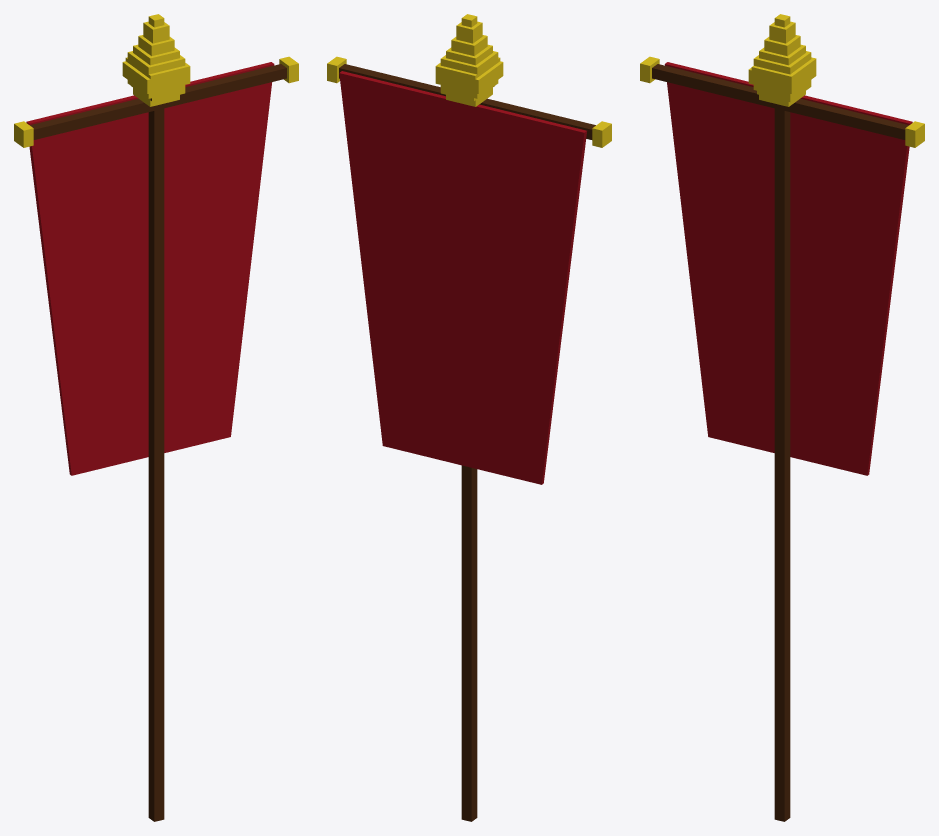
The model's file is Banners.fbx.
3 renders of one model, left to right at view 1: azimuth 30°, elevation 25°; view 2: azimuth 150°, elevation 25°; view 3: azimuth 330°, elevation 25°, orthographic.
Parts seen in each view (by area): view 1: Flag, Banner; view 2: Flag, Banner; view 3: Flag, Banner.
Boxes of the visible parts, box(x1,y1,x2,y2) form: Flag: box(26, 62, 274, 475); Banner: box(14, 14, 298, 821); Flag: box(339, 71, 586, 484); Banner: box(327, 14, 611, 821); Flag: box(664, 62, 912, 475); Banner: box(640, 14, 924, 821).
Size of the model in its own units: 112 by 17.58 by 312.
